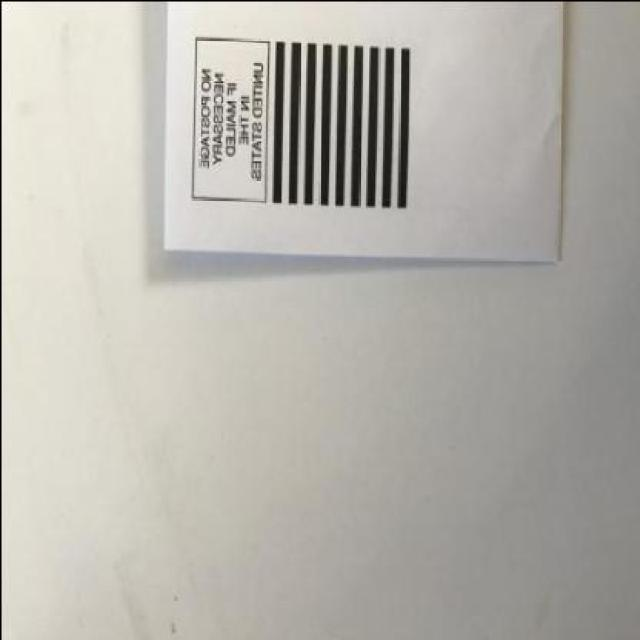paper: (160, 2, 563, 263)
